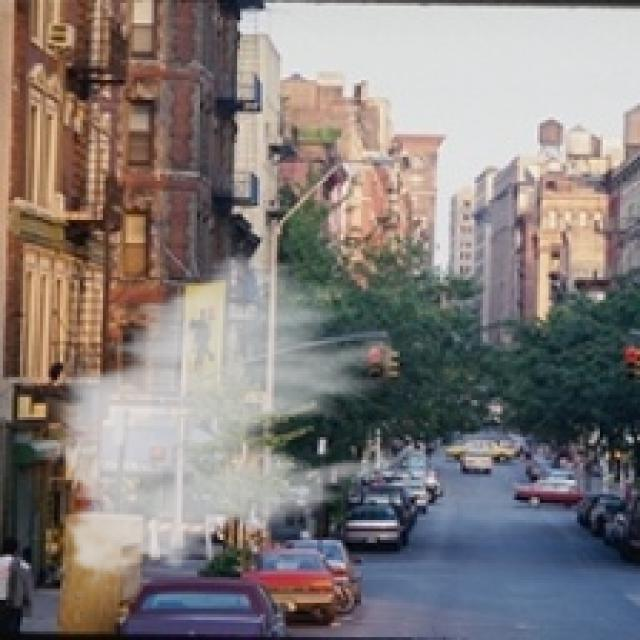smoke: (40, 243, 394, 594)
